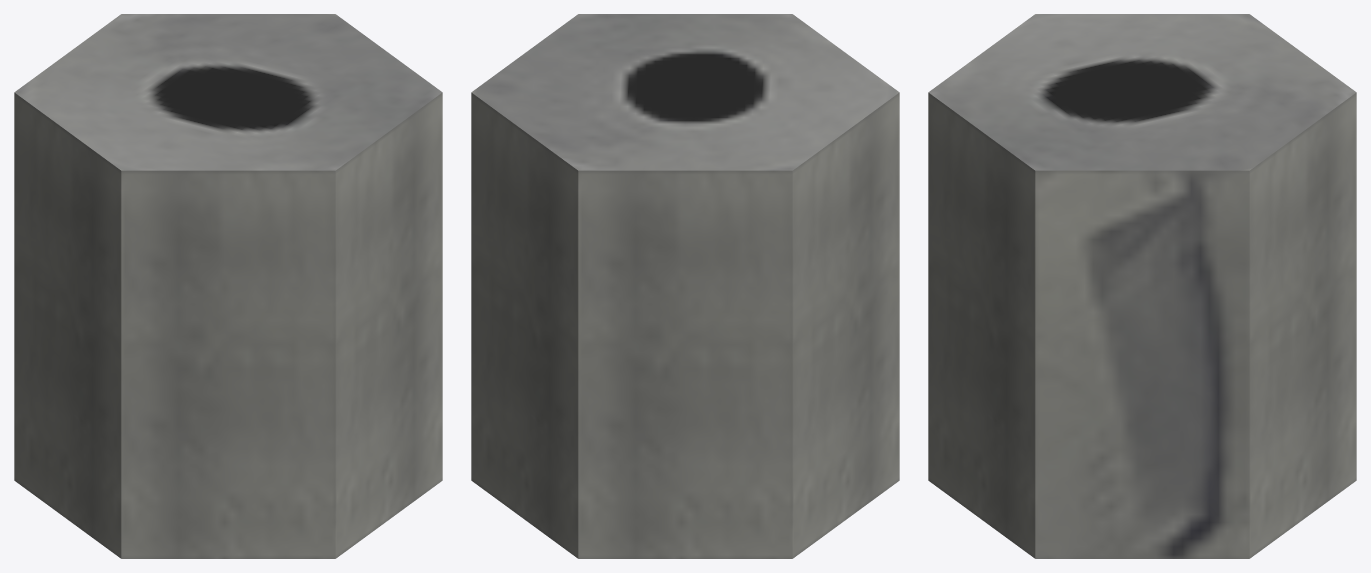
The model's file is ToiletPaper01.obj.
The picture shows the model from 3 angles, left to right: view 1: azimuth 30°, elevation 25°; view 2: azimuth 150°, elevation 25°; view 3: azimuth 270°, elevation 25°; orthographic projection.
Visible parts, largest first — view 1: ToilettePaper01; view 2: ToilettePaper01; view 3: ToilettePaper01.
Part boxes in pixels (left/top/right/bottom): ToilettePaper01: left=14, top=14, right=442, bottom=558; ToilettePaper01: left=471, top=14, right=899, bottom=558; ToilettePaper01: left=928, top=14, right=1356, bottom=558.
Bounding box in the file's own units: 0.2252 × 0.26 × 0.26.
